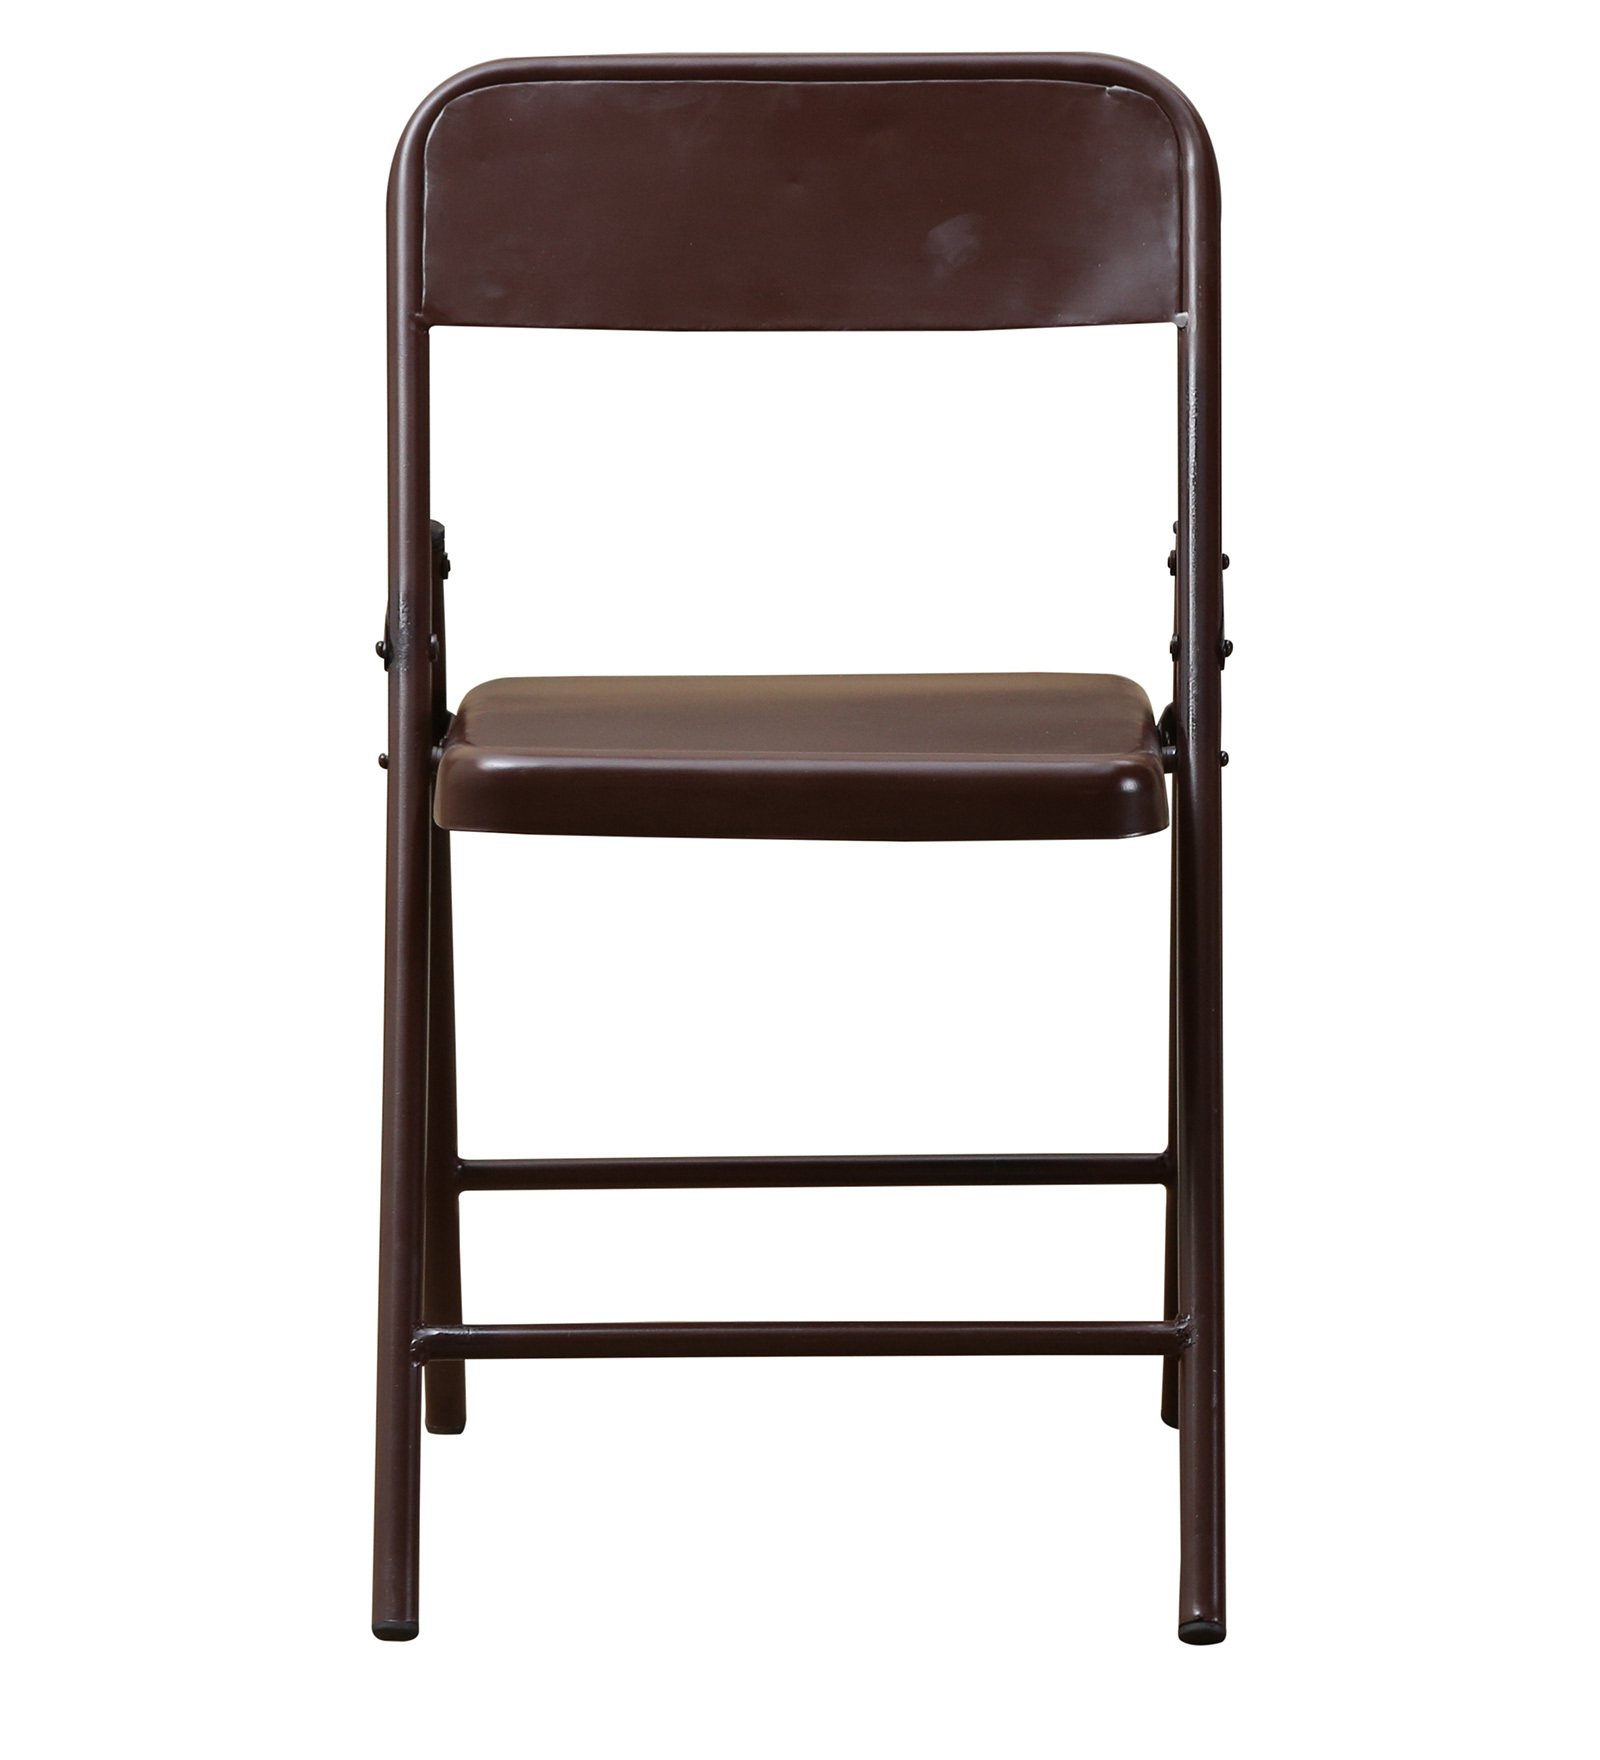Kell Folding Chair in Brown Color by Bohemiana: (314, 28, 1287, 1706)
